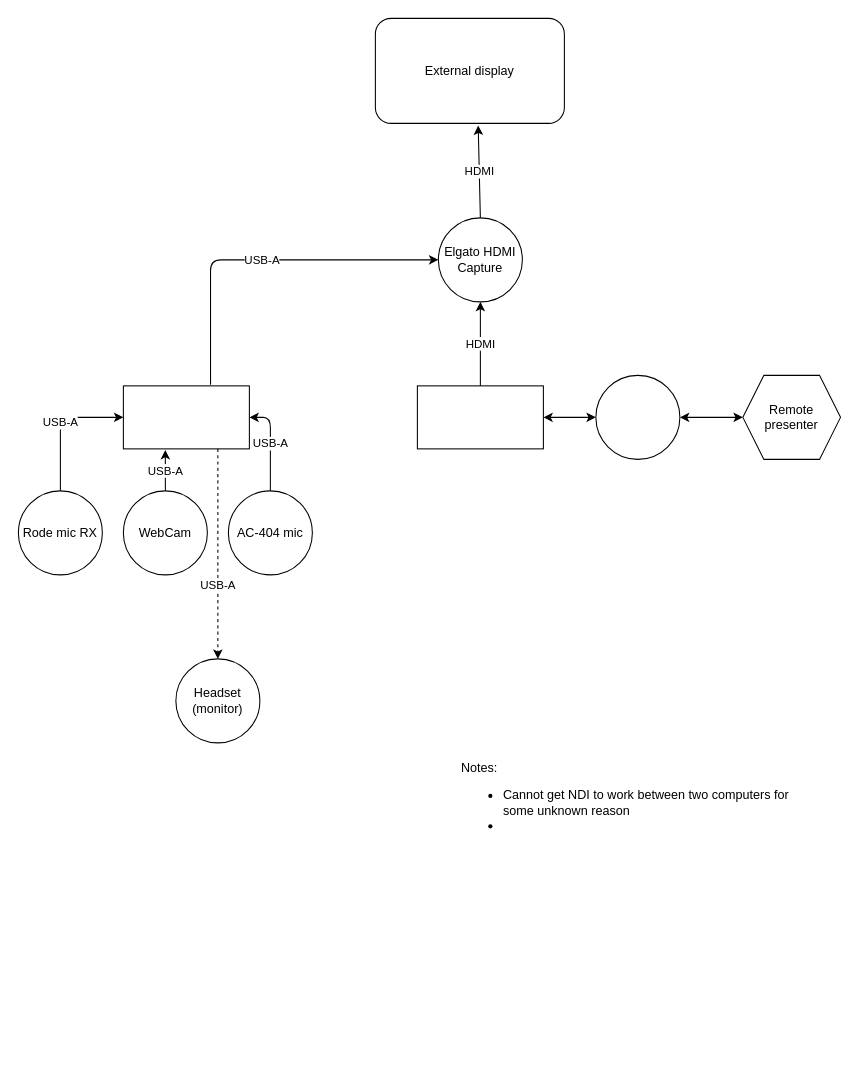
Some shapes in this 859 by 1076 pixel diagram are drawn without their labels. The centre of each missing label's shape, as x and y in pixels:
"Computer A Dell 7420 OBS Teams" belongs at (x=185, y=417).
"Computer B Dell XPS 9550 PowerPoint Teams" belongs at (x=479, y=417).
"Teams/ Skype?" belongs at (x=637, y=416).
